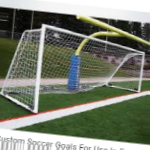goals: (2, 22, 146, 113)
